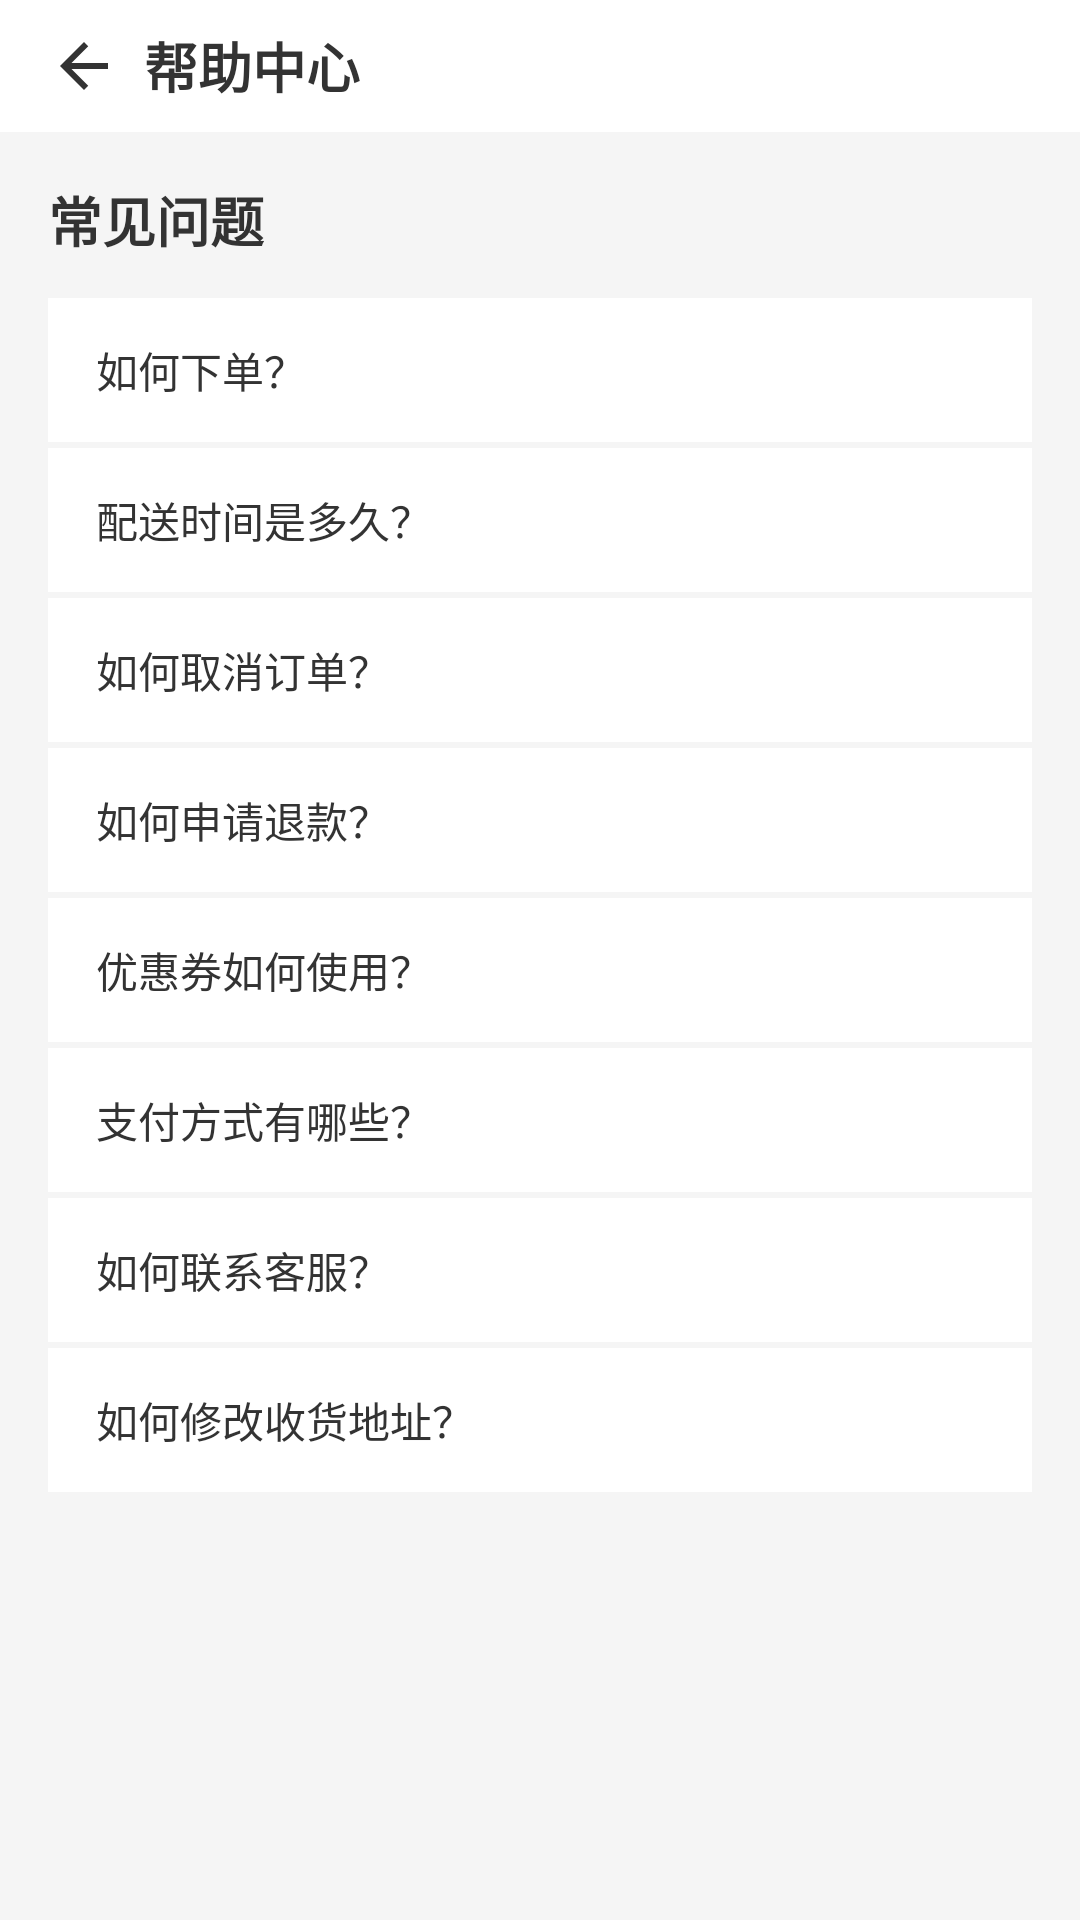

Point at icon controls on the screen. Image size 1080px x 1920px, points as (x=x, y=y).
arrow back: (x=84, y=66)
